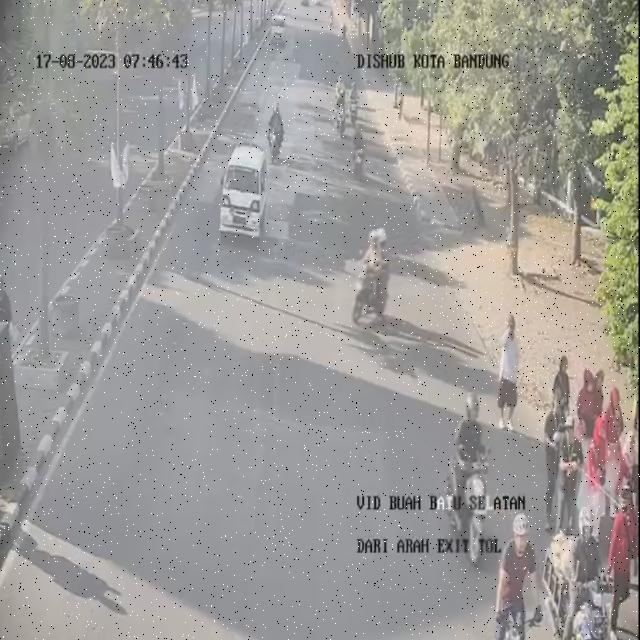cars: (222, 146, 268, 240)
motorcycle: (486, 508, 549, 640), (444, 396, 494, 561), (351, 217, 396, 332), (334, 75, 355, 138), (268, 101, 283, 168), (351, 124, 366, 180)
